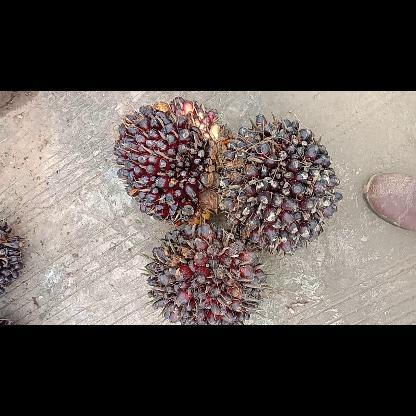TBS mentah: (216, 110, 344, 256), (110, 95, 234, 225), (143, 223, 269, 324)
